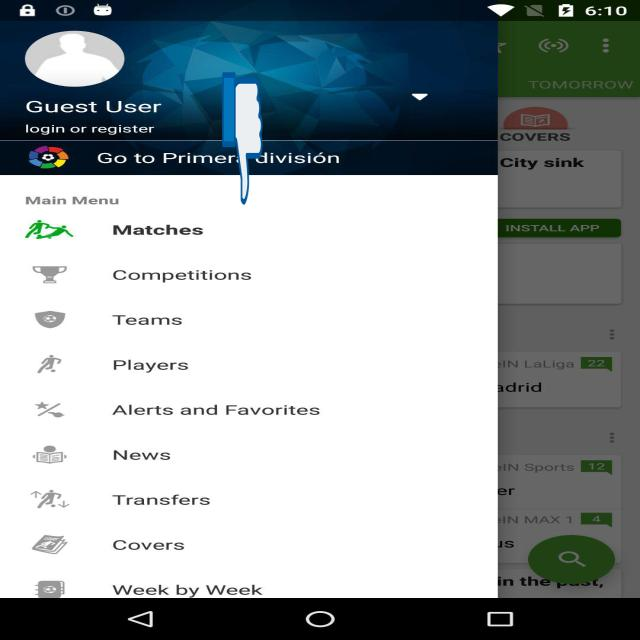obstruction: (222, 69, 263, 208)
